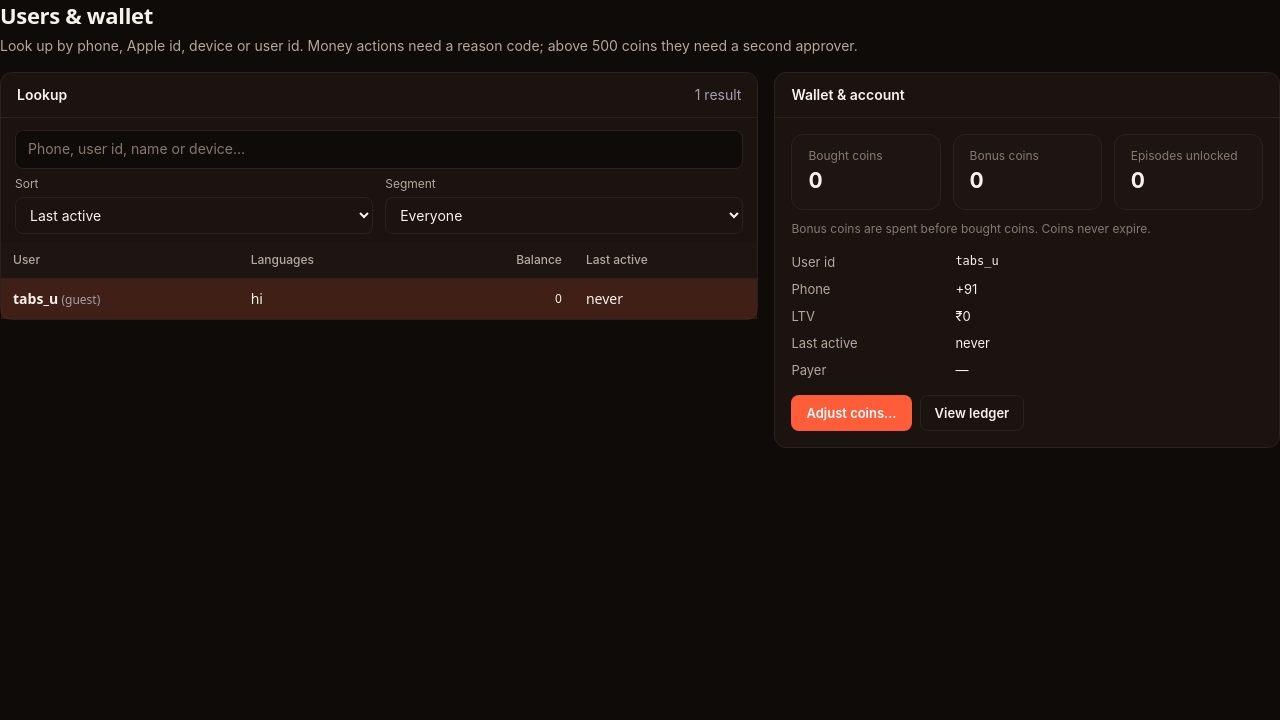
it: last handler mile › Users dialog tab buttons cycle every tab
Expected: the text "tabs_u" next to "guest" is shown, [13,289,58,308]
Click the button "View ledger" at (972, 413), box [920,395,1024,431]
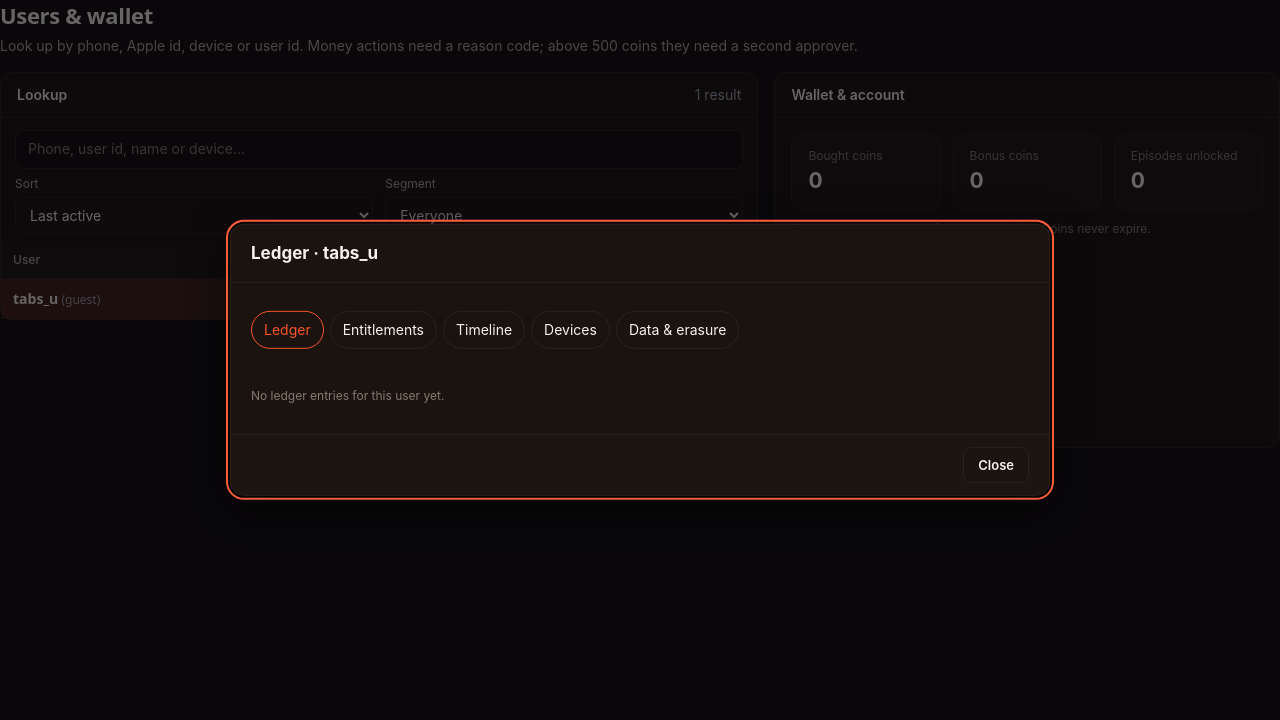
Click the tab "Entitlements" at (383, 330), box [330,310,437,349]
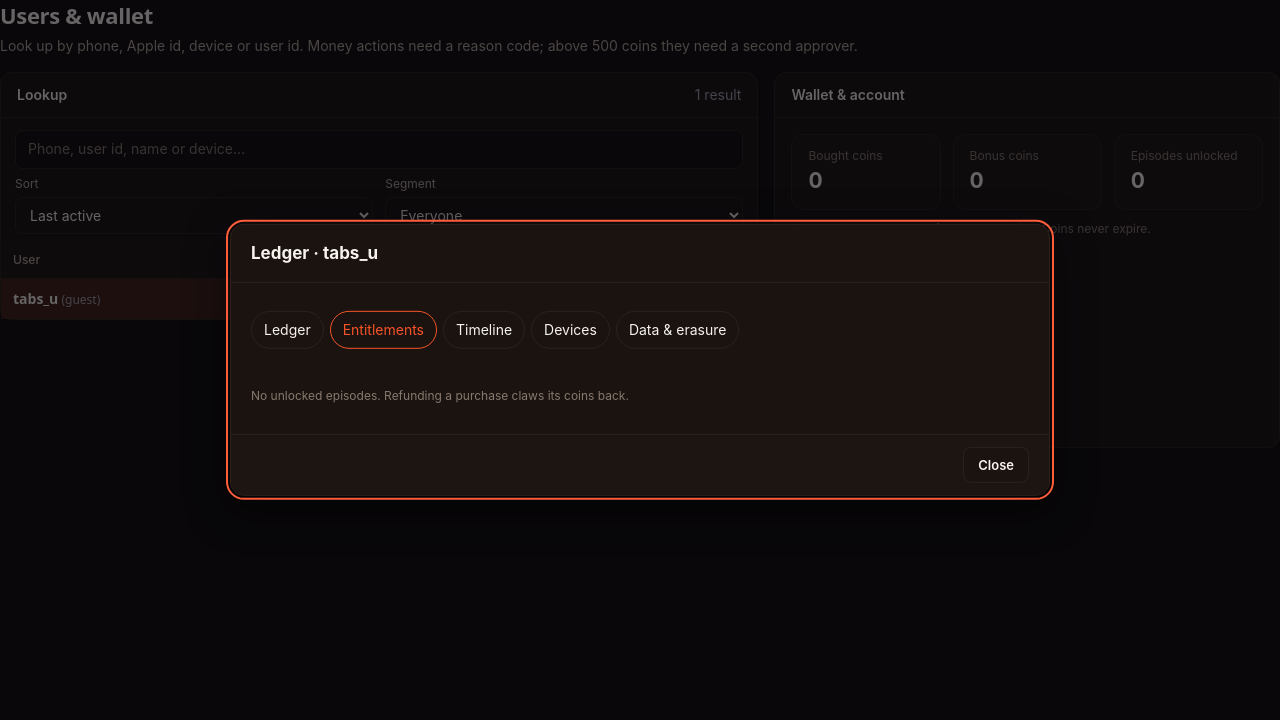
Click the tab "Timeline" at (484, 330), box [443,310,525,349]
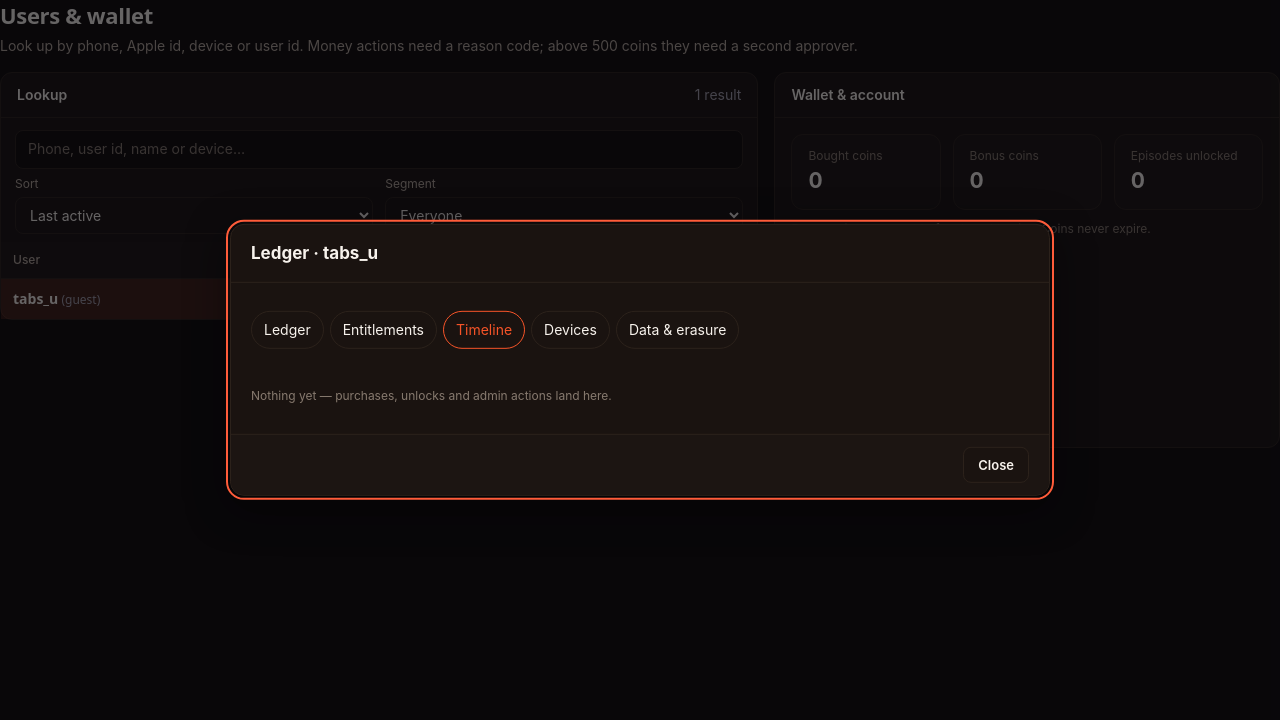
Click the tab "Data & erasure" at (678, 330), box [616,310,739,349]
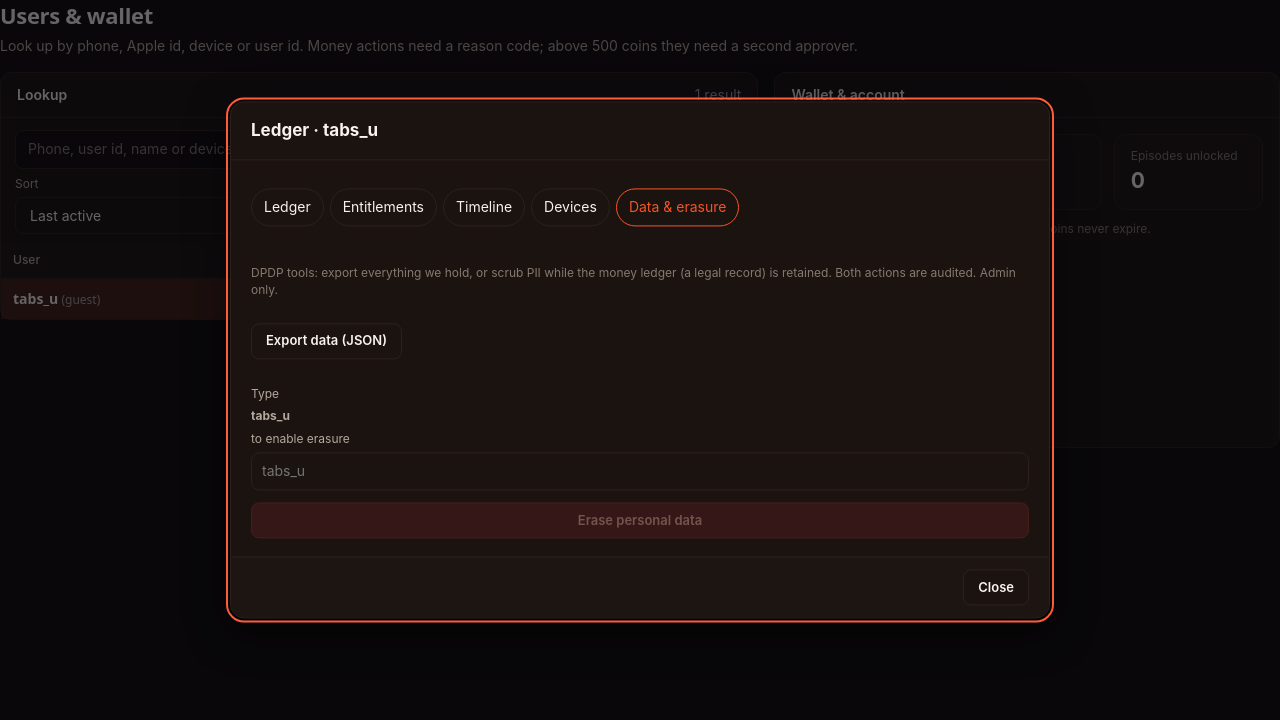
Click the tab "Ledger" at (287, 207), box [251,188,324,226]
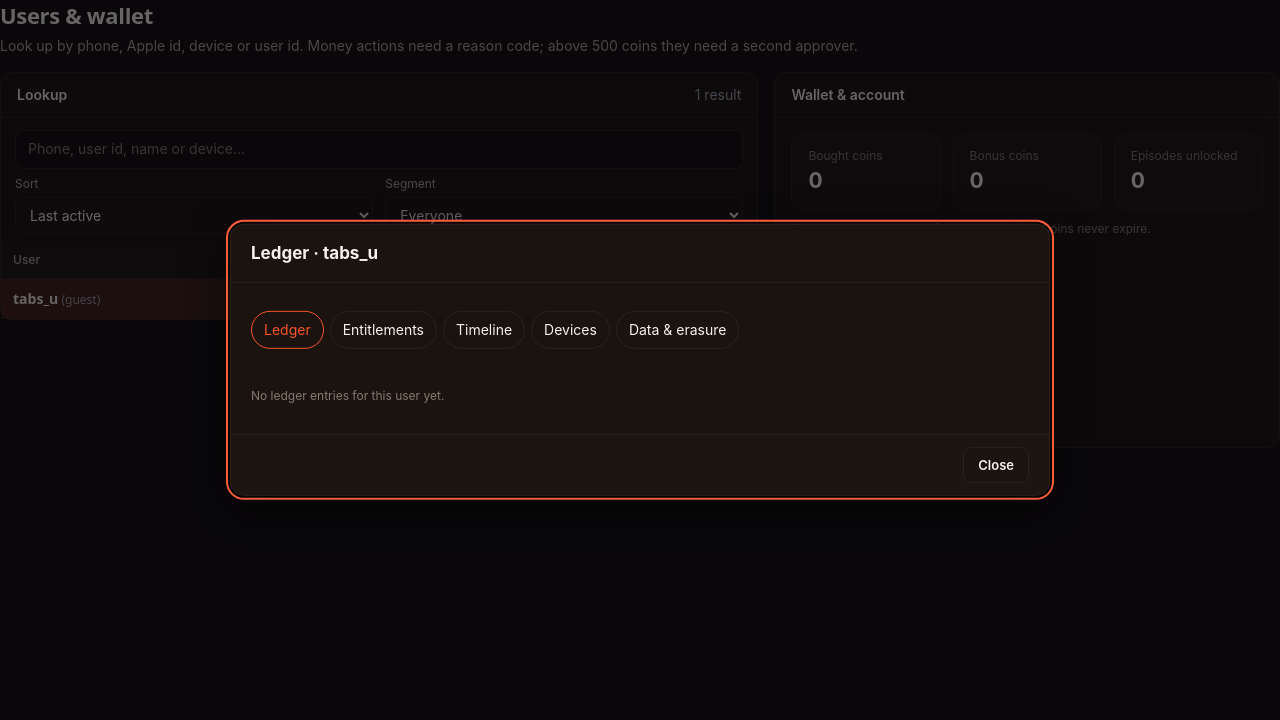
Result: the text "No ledger entries for this user yet." is shown at [251,388,444,403]
